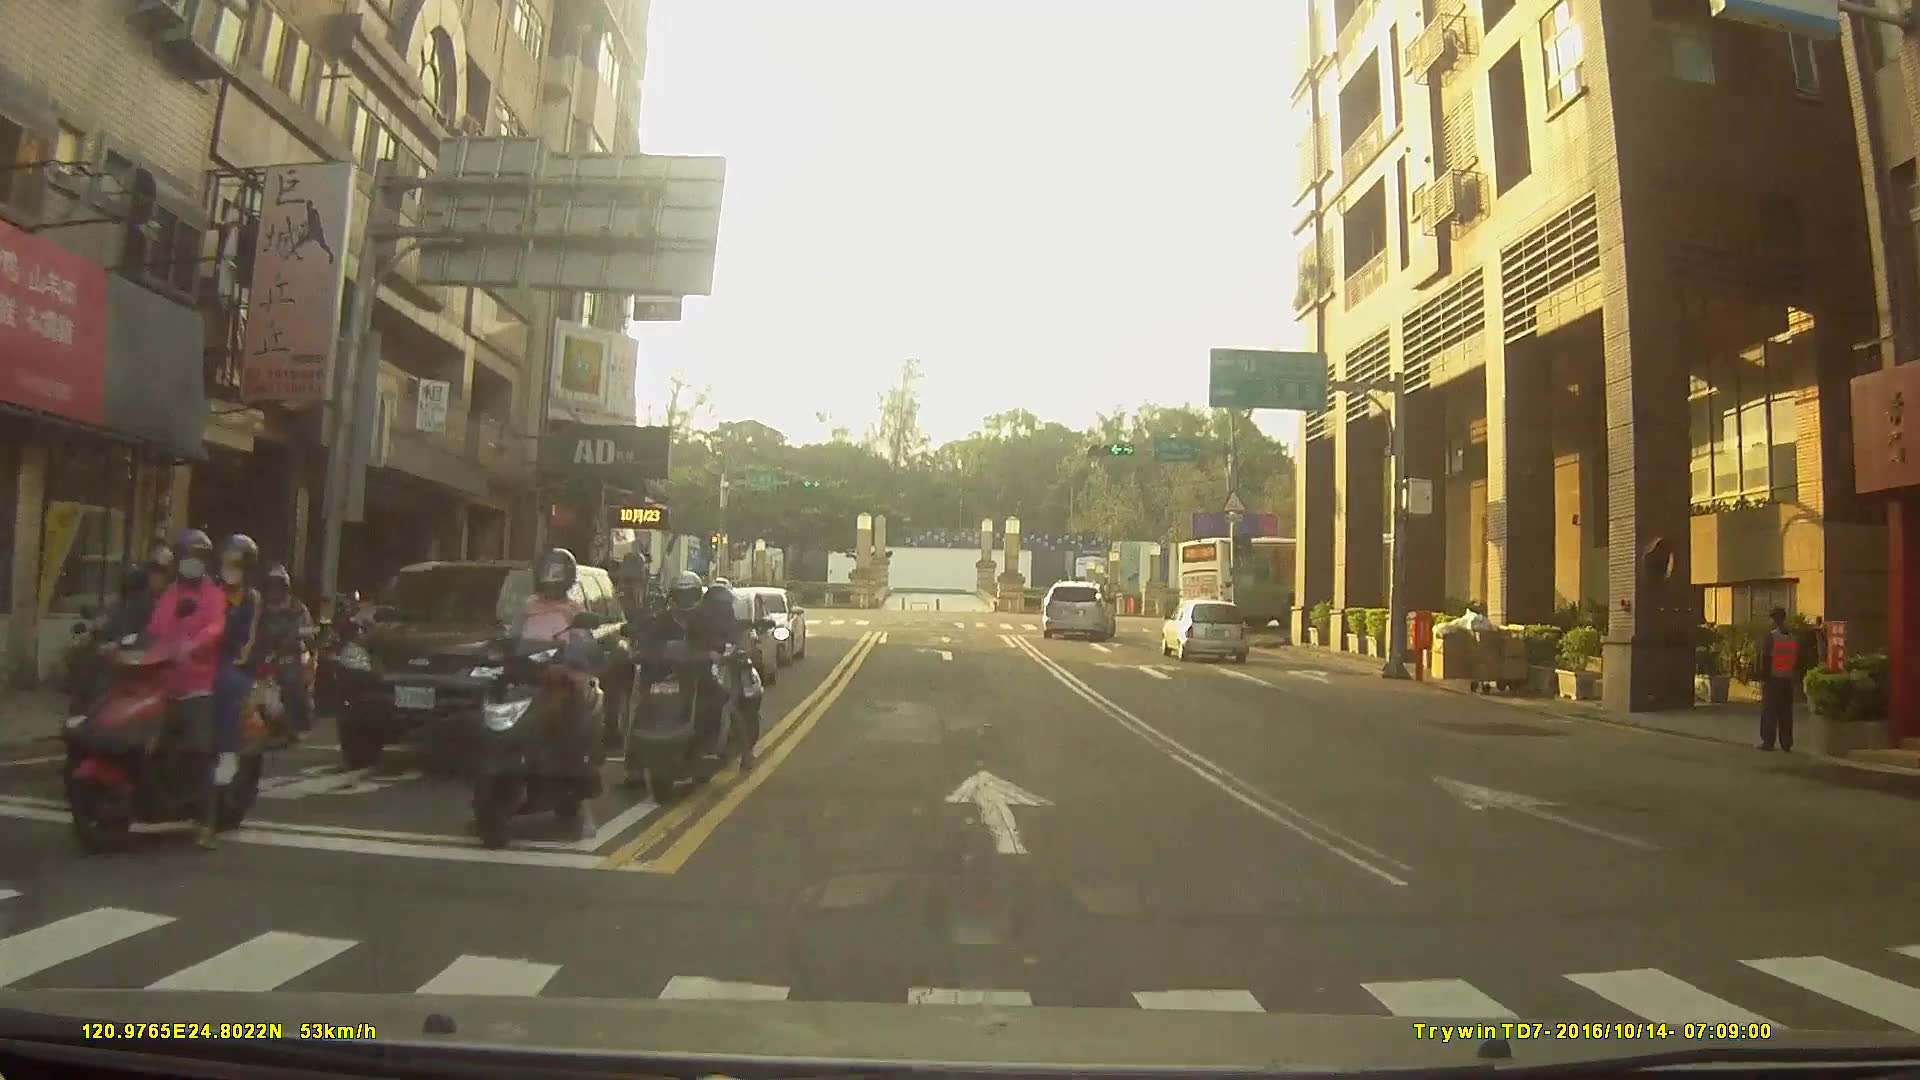pedestrian: (1749, 608, 1809, 763)
rider: (51, 523, 260, 853), (452, 544, 612, 849), (620, 572, 734, 807)
vehicle: (331, 559, 632, 763), (1177, 533, 1433, 626), (1158, 596, 1250, 661), (1040, 580, 1117, 639)
